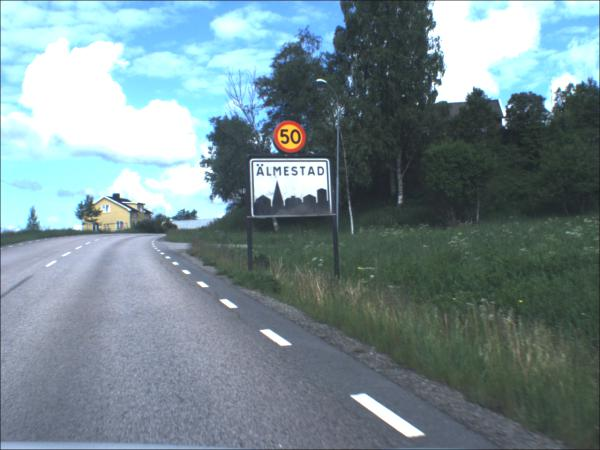50_SIGN: (275, 122, 308, 156)
